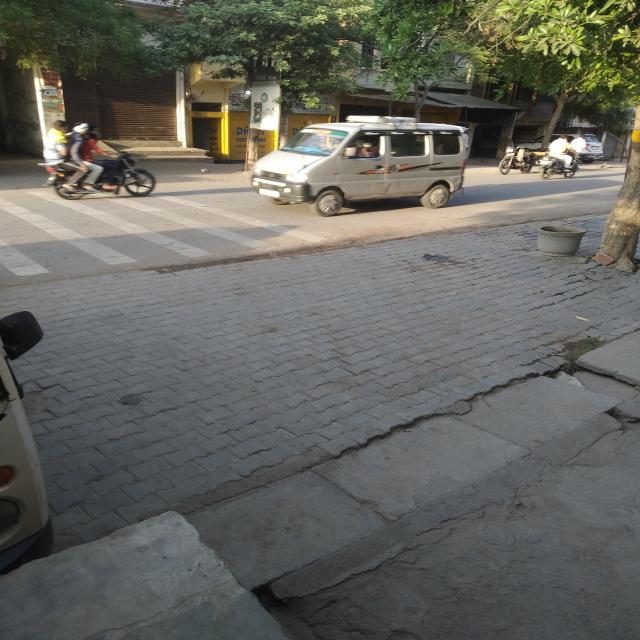Car: (252, 116, 467, 216)
